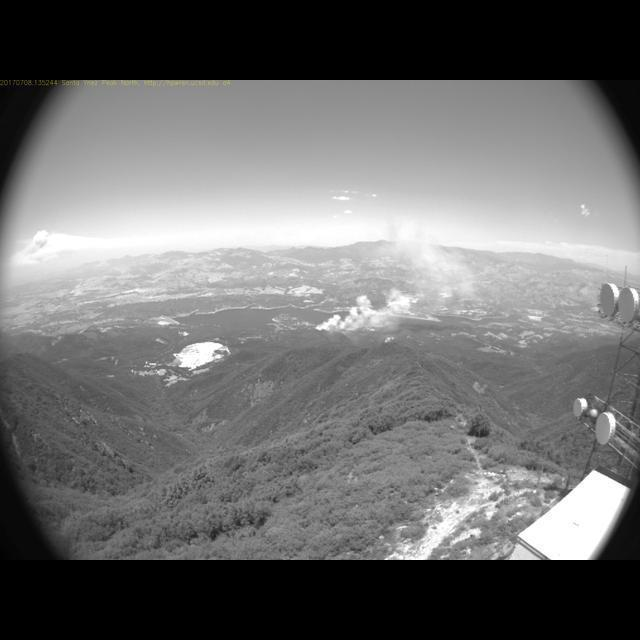Smoke: (309, 208, 483, 341)
